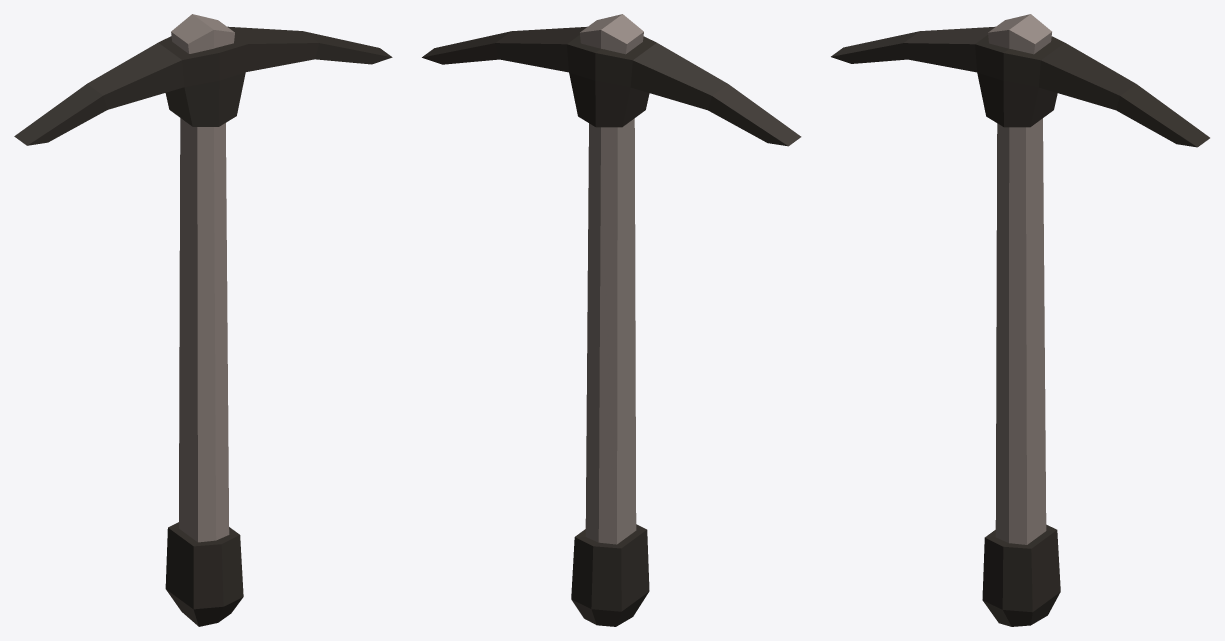
The model's file is Pickaxe_V2.fbx.
3 renders of one model, left to right at view 1: azimuth 30°, elevation 25°; view 2: azimuth 150°, elevation 25°; view 3: azimuth 330°, elevation 25°, orthographic.
Parts seen in each view (by area): view 1: pickaxe; view 2: pickaxe; view 3: pickaxe.
Part boxes in pixels (x1,y1,x2,y2): pickaxe: (14, 14, 392, 626); pickaxe: (422, 14, 801, 626); pickaxe: (831, 14, 1209, 626).
Size of the model in its own units: 122 by 189 by 21.78.
